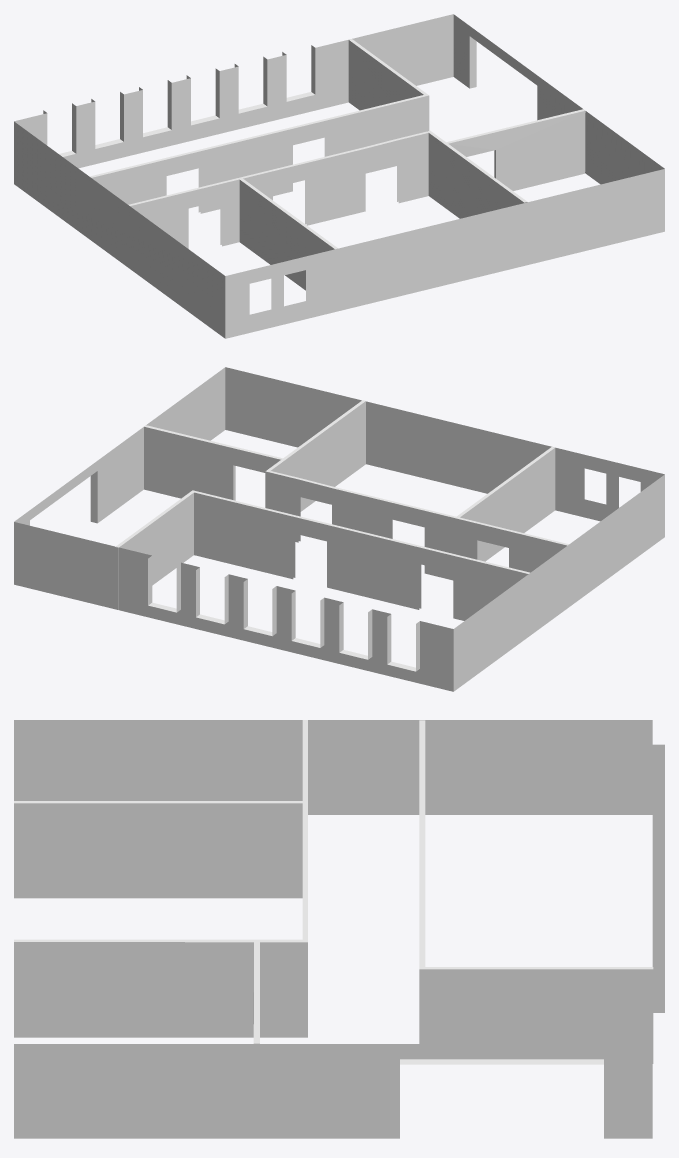
The model's file is Wall001.fbx.
3 renders of one model, top to bottom at view 1: azimuth 30°, elevation 25°; view 2: azimuth 150°, elevation 25°; view 3: azimuth 270°, elevation 25°, orthographic. The views are drawn at different scales.
Visible parts, largest first — view 1: Wall001; view 2: Wall001; view 3: Wall001.
Boxes of the visible parts, x1,y1,x2,y2 form: Wall001: (14,14,664,338); Wall001: (14,367,664,691); Wall001: (14,720,664,1138).
Size of the model in its own units: 2673 by 362 by 2234.
